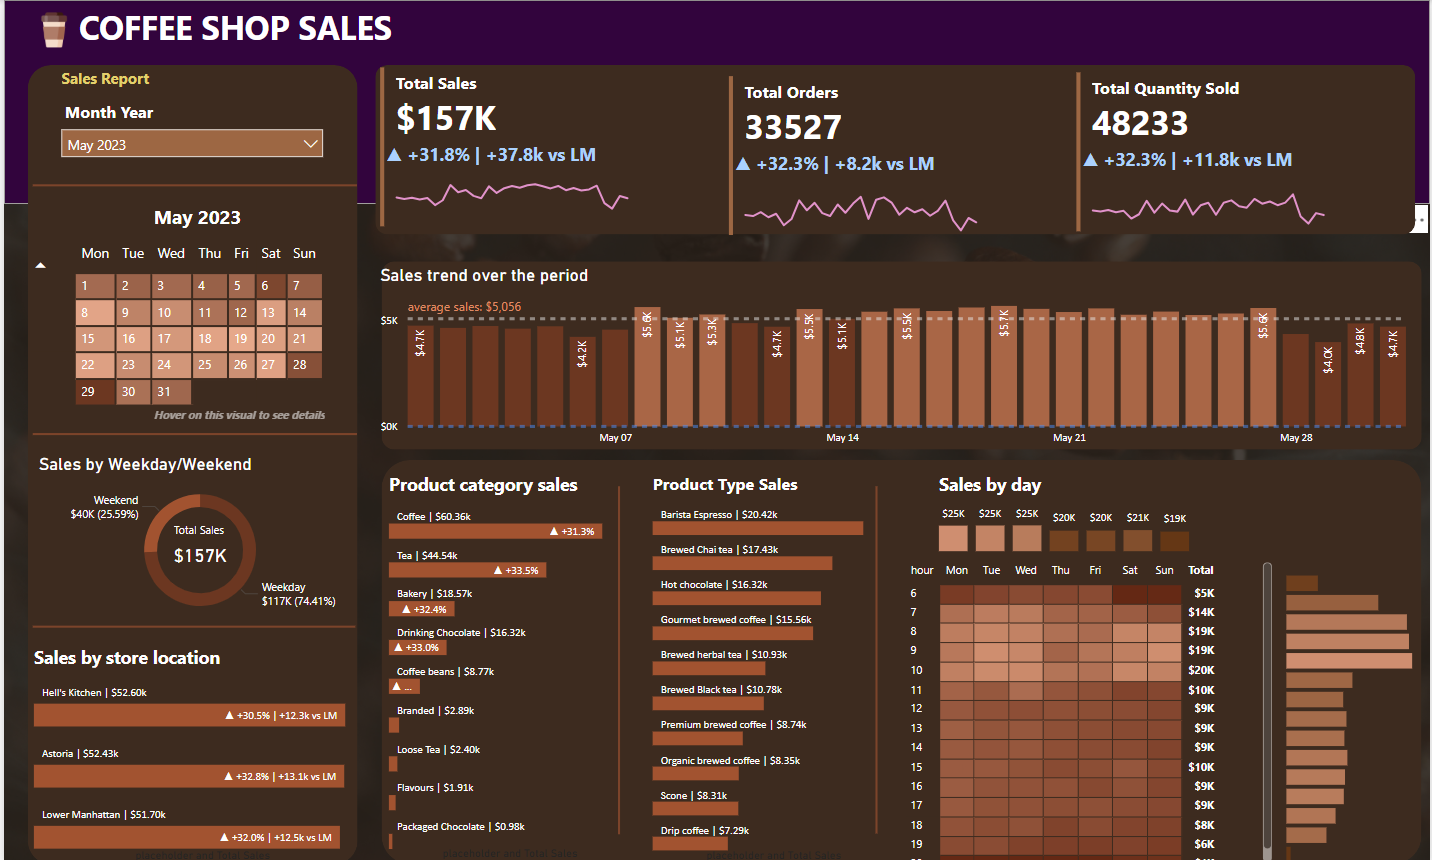

What the dashboard file says about the page in this screenshot:
{"tool":"powerbi","page":{"name":"Page 1","canvas":[1400,850],"ordinal":0},"visuals":[{"type":"shape","box":[0,0,1400,200],"z":0},{"type":"shape","box":[23.3,64.2,323.8,784.6],"z":1000},{"type":"shape","box":[364.6,64.2,1020.8,166.2],"z":2000},{"type":"textbox","box":[72.9,5.8,338.3,43.8],"z":3000},{"type":"cardVisual","fields":{"Data":["Transactions.Total Sales"]},"box":[364.6,61.2,300.4,166.2],"z":4000,"group":"g1"},{"type":"cardVisual","fields":{"Data":["Transactions.Total Quantity Sold"]},"box":[1047.8,66,300.4,166.2],"z":4000,"group":"g3"},{"type":"cardVisual","fields":{"Data":["Transactions.Total Orders"]},"box":[706.2,70,300.4,166.2],"z":4000,"group":"g2"},{"type":"slicer","fields":{"Values":["Date Table.Month Year"]},"box":[51.5,98.3,266.7,70.2],"z":4000},{"type":"group","id":"g1","title":"Group 1","box":[364.6,61.2,300.4,166.2],"z":5000},{"type":"group","id":"g2","title":"Group 1","box":[706.2,70,300.4,166.2],"z":6000},{"type":"lineChart","fields":{"Category":["Date Table.Date.Variation.Date Hierarchy.Year","Date Table.Date.Variation.Date Hierarchy.Quarter","Date Table.Date.Variation.Date Hierarchy.Month","Date Table.Date.Variation.Date Hierarchy.Day"],"Y":["Transactions.Total Sales"]},"box":[370.4,140,256.7,84.6],"z":6000,"group":"g1"},{"type":"lineChart","fields":{"Category":["Date Table.Date.Variation.Date Hierarchy.Year","Date Table.Date.Variation.Date Hierarchy.Quarter","Date Table.Date.Variation.Date Hierarchy.Month","Date Table.Date.Variation.Date Hierarchy.Day"],"Y":["Transactions.Total Quantity Sold"]},"box":[1053.6,144.8,256.7,84.6],"z":6000,"group":"g3"},{"type":"lineChart","fields":{"Category":["Date Table.Date.Variation.Date Hierarchy.Year","Date Table.Date.Variation.Date Hierarchy.Quarter","Date Table.Date.Variation.Date Hierarchy.Month","Date Table.Date.Variation.Date Hierarchy.Day"],"Y":["Transactions.Total Orders"]},"box":[712,148.8,256.7,84.6],"z":6000,"group":"g2"},{"type":"group","id":"g3","title":"Group 1","box":[1047.8,66,299.5,168.5],"z":7000},{"type":"pivotTable","fields":{"Rows":["Date Table.Week Number"],"Columns":["Date Table.Day Name"],"Values":["Min(Date Table.Day Number)"]},"box":[20.4,230.4,335.4,189.6],"z":8000},{"type":"cardVisual","fields":{"Data":["Transactions.Foot note"]},"box":[130.4,363.4,222.6,80],"z":9000},{"type":"cardVisual","fields":{"Data":["Min(Date Table.Month Year)"]},"box":[130.2,161.8,133.7,95],"z":10000},{"type":"shape","box":[28.1,407.1,318.2,37.4],"z":10001},{"type":"shape","box":[28.1,163.8,318.2,37.4],"z":10002},{"type":"donutChart","title":"Sales by Weekday/Weekend","fields":{"Category":["Date Table.weekday / weekend"],"Y":["Transactions.Total Sales"]},"box":[29.2,446.2,326.7,151.7],"z":10003},{"type":"cardVisual","fields":{"Data":["Transactions.Total Sales"]},"box":[148.3,436.4,186.4,180.1],"z":10004},{"type":"shape","box":[28.1,598,316.6,35.2],"z":10005},{"type":"clusteredBarChart","title":"Sales by store location","fields":{"Category":["Transactions.store_location"],"Y":["Transactions.placeholder","Transactions.Total Sales"]},"box":[24.6,633.2,341.2,218.1],"z":10006}]}

Visuals, with their boxes in screenshot pixels (x1, y1, x2, y2), scaled from the page's 1400x850 canvas onto the 1432x860 screenshot:
shape: {"x1": 0, "y1": 0, "x2": 1431, "y2": 202}
shape: {"x1": 24, "y1": 65, "x2": 355, "y2": 859}
shape: {"x1": 373, "y1": 65, "x2": 1417, "y2": 233}
textbox: {"x1": 75, "y1": 6, "x2": 421, "y2": 50}
cardVisual - Transactions.Total Sales: {"x1": 373, "y1": 62, "x2": 680, "y2": 230}
cardVisual - Transactions.Total Quantity Sold: {"x1": 1072, "y1": 67, "x2": 1379, "y2": 235}
cardVisual - Transactions.Total Orders: {"x1": 722, "y1": 71, "x2": 1030, "y2": 239}
slicer - Date Table.Month Year: {"x1": 53, "y1": 99, "x2": 325, "y2": 170}
"Group 1" group: {"x1": 373, "y1": 62, "x2": 680, "y2": 230}
"Group 1" group: {"x1": 722, "y1": 71, "x2": 1030, "y2": 239}
lineChart - Date Table.Date.Variation.Date Hierarchy.Year x Date Table.Date.Variation.Date Hierarchy.Quarter: {"x1": 379, "y1": 142, "x2": 641, "y2": 227}
lineChart - Date Table.Date.Variation.Date Hierarchy.Year x Date Table.Date.Variation.Date Hierarchy.Quarter: {"x1": 1078, "y1": 147, "x2": 1340, "y2": 232}
lineChart - Date Table.Date.Variation.Date Hierarchy.Year x Date Table.Date.Variation.Date Hierarchy.Quarter: {"x1": 728, "y1": 151, "x2": 991, "y2": 236}
"Group 1" group: {"x1": 1072, "y1": 67, "x2": 1378, "y2": 237}
pivotTable - Date Table.Week Number x Date Table.Day Name: {"x1": 21, "y1": 233, "x2": 364, "y2": 425}
cardVisual - Transactions.Foot note: {"x1": 133, "y1": 368, "x2": 361, "y2": 449}
cardVisual - Min(Date Table.Month Year): {"x1": 133, "y1": 164, "x2": 270, "y2": 260}
shape: {"x1": 29, "y1": 412, "x2": 354, "y2": 450}
shape: {"x1": 29, "y1": 166, "x2": 354, "y2": 204}
"Sales by Weekday/Weekend" donutChart: {"x1": 30, "y1": 451, "x2": 364, "y2": 605}
cardVisual - Transactions.Total Sales: {"x1": 152, "y1": 442, "x2": 342, "y2": 624}
shape: {"x1": 29, "y1": 605, "x2": 353, "y2": 641}
"Sales by store location" clusteredBarChart: {"x1": 25, "y1": 641, "x2": 374, "y2": 859}
